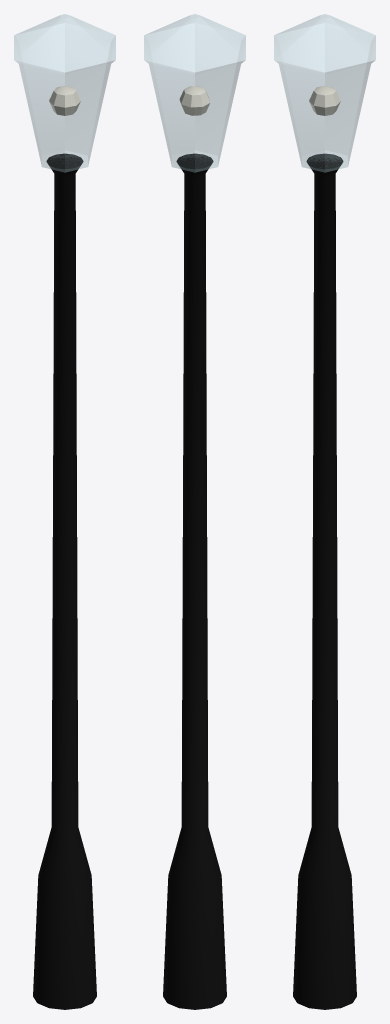
File: street.light.heritage.glb
3 renders of one model, left to right at view 1: azimuth 90°, elevation 25°; view 2: azimuth 210°, elevation 25°; view 3: azimuth 270°, elevation 25°, orthographic.
Parts seen in each view (by area): view 1: main__plastic_black, main__glass, main__light_emitter; view 2: main__plastic_black, main__glass, main__light_emitter; view 3: main__plastic_black, main__glass, main__light_emitter.
Part boxes in pixels (box(x1,y1,x2,y2)): main__plastic_black: box(33, 153, 96, 1009); main__glass: box(14, 14, 115, 172); main__light_emitter: box(49, 86, 80, 115); main__plastic_black: box(163, 153, 226, 1009); main__glass: box(144, 14, 245, 172); main__light_emitter: box(179, 86, 210, 115); main__plastic_black: box(293, 153, 356, 1009); main__glass: box(274, 14, 375, 172); main__light_emitter: box(309, 86, 340, 115).
Size of the model in its own units: 0.44 by 4.05 by 0.3811.
